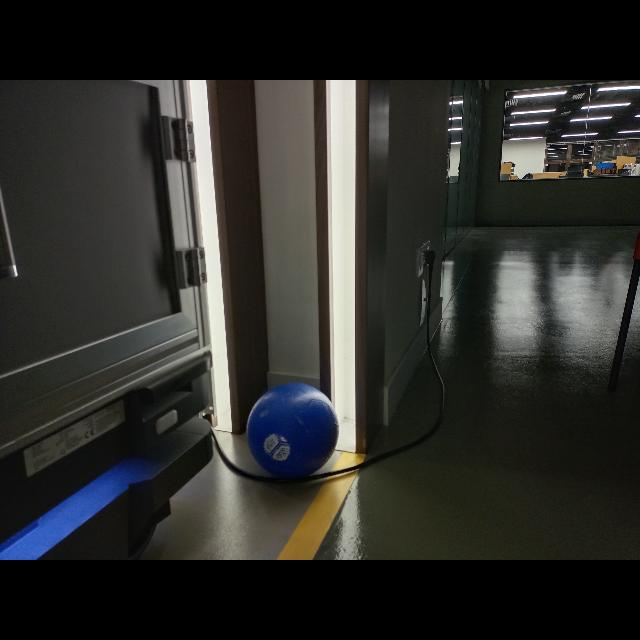B: (246, 382, 340, 480)
